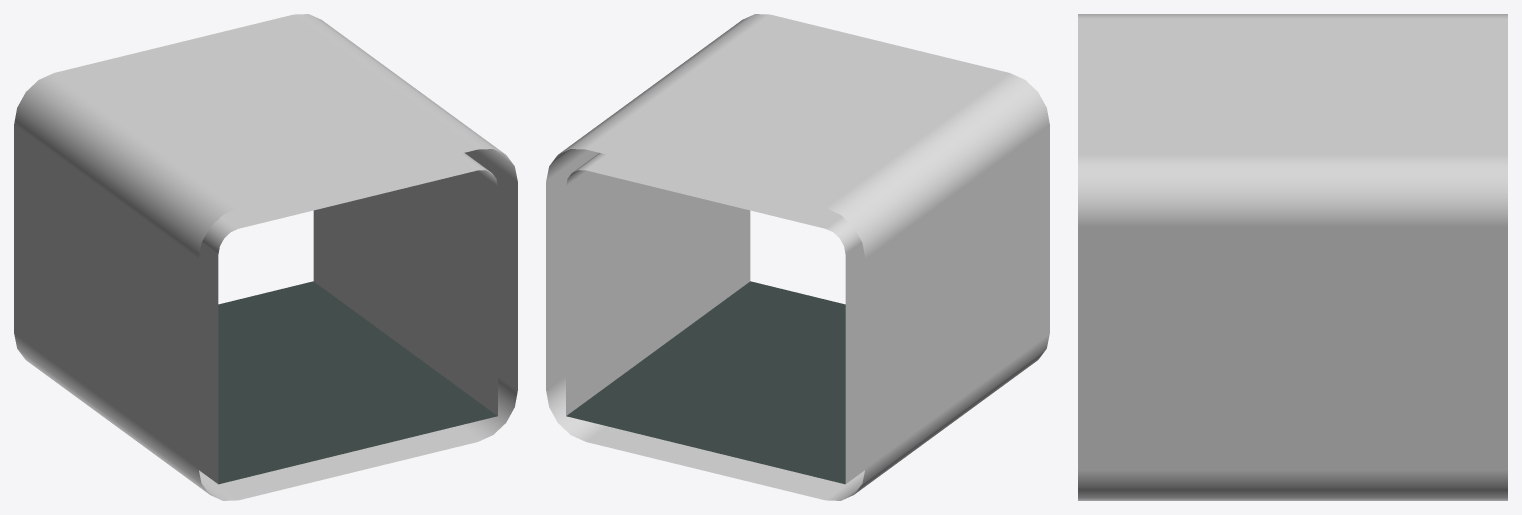
File: SSCCorridor1.fbx
3 views of the same model, side by side, from view 1: azimuth 30°, elevation 25°; view 2: azimuth 150°, elevation 25°; view 3: azimuth 270°, elevation 25° (orthographic). The views are drawn at different scales.
Visible parts, largest first — view 1: SSCCorridor1, SSCCorridor1Floor; view 2: SSCCorridor1, SSCCorridor1Floor; view 3: SSCCorridor1.
Part boxes in pixels (left/top/right/bottom): SSCCorridor1: left=14, top=14, right=517, bottom=500; SSCCorridor1Floor: left=218, top=281, right=497, bottom=484; SSCCorridor1: left=546, top=14, right=1049, bottom=500; SSCCorridor1Floor: left=566, top=281, right=845, bottom=484; SSCCorridor1: left=1078, top=14, right=1507, bottom=500.
Size of the model in its own units: 400 by 350 by 400.
